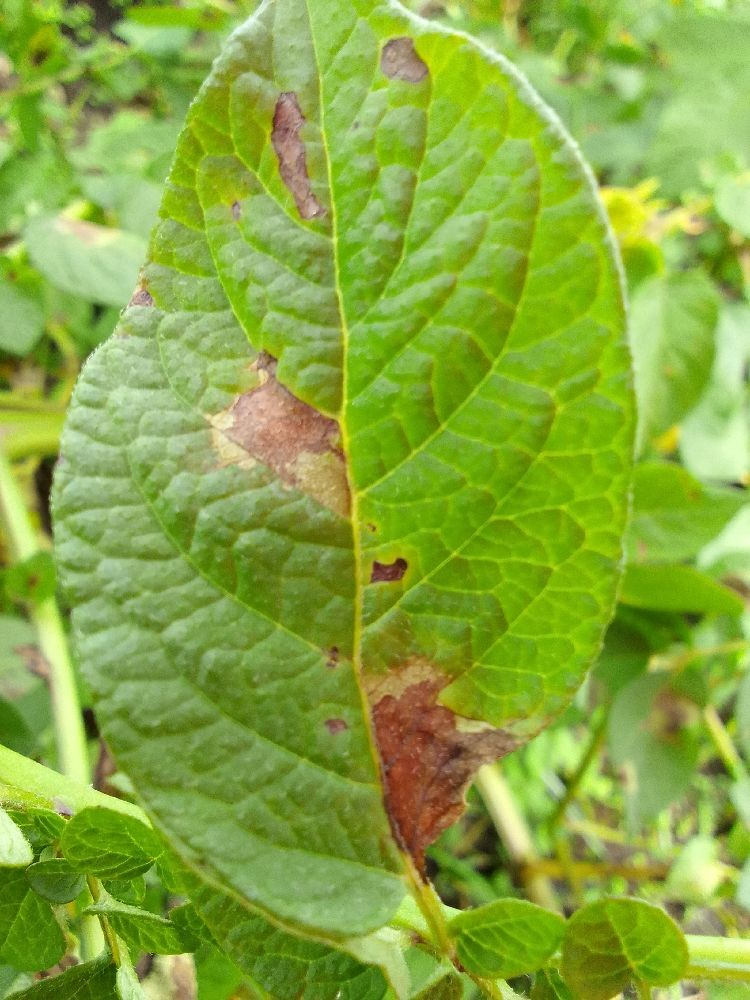late_blight: (307, 628, 539, 972), (186, 329, 378, 574), (255, 78, 342, 235), (558, 913, 646, 1000)
